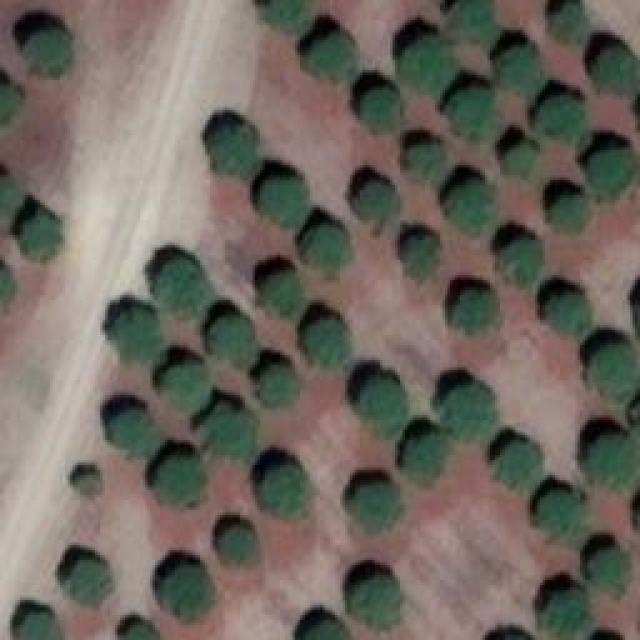Tree: (153, 257, 208, 315), (113, 303, 166, 363), (445, 78, 495, 141), (108, 400, 163, 455), (198, 403, 253, 458), (583, 340, 638, 395), (353, 373, 408, 428), (158, 450, 208, 510), (403, 30, 453, 88), (303, 307, 353, 365), (208, 120, 258, 175), (445, 180, 495, 233), (348, 478, 398, 531), (535, 590, 588, 640), (350, 575, 400, 628), (212, 313, 260, 368), (295, 217, 348, 265), (163, 360, 213, 410), (253, 353, 303, 403), (445, 385, 495, 435), (587, 42, 640, 89), (250, 265, 300, 313), (492, 235, 540, 285), (63, 557, 113, 605), (160, 563, 208, 613), (25, 25, 70, 78), (498, 440, 543, 493), (495, 45, 543, 93), (260, 175, 308, 223), (540, 490, 583, 543), (405, 433, 448, 486), (305, 33, 353, 78), (402, 138, 450, 183), (537, 95, 585, 140), (543, 192, 588, 240), (585, 150, 633, 195), (262, 463, 310, 508), (213, 523, 263, 566), (443, 0, 496, 40), (593, 435, 636, 483), (358, 85, 403, 130), (358, 178, 403, 221), (545, 3, 590, 46), (455, 290, 495, 335), (588, 545, 628, 588), (20, 213, 58, 253), (14, 607, 57, 640), (258, 0, 308, 28), (553, 292, 588, 330), (508, 140, 543, 175), (405, 235, 435, 273), (300, 620, 350, 640), (0, 82, 22, 127), (70, 465, 98, 500), (0, 174, 22, 217), (123, 620, 156, 640)
